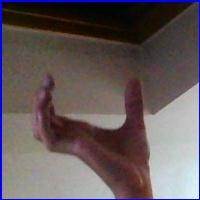space: (28, 67, 166, 179)
